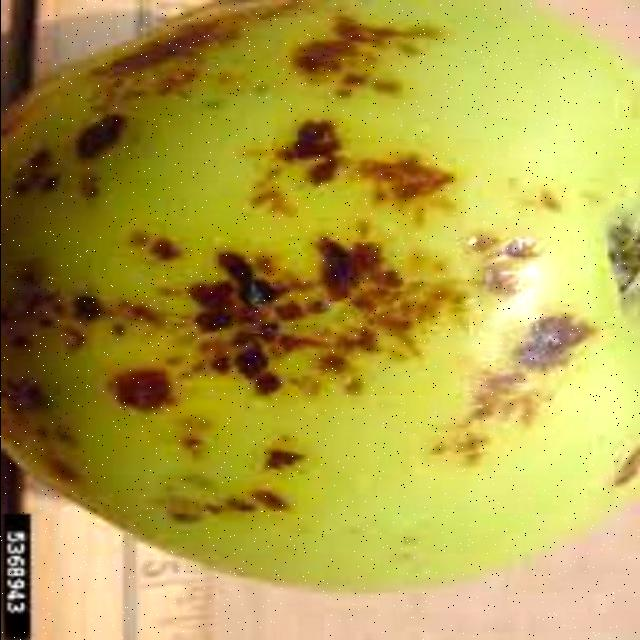BLOTCH: (15, 14, 640, 570)
